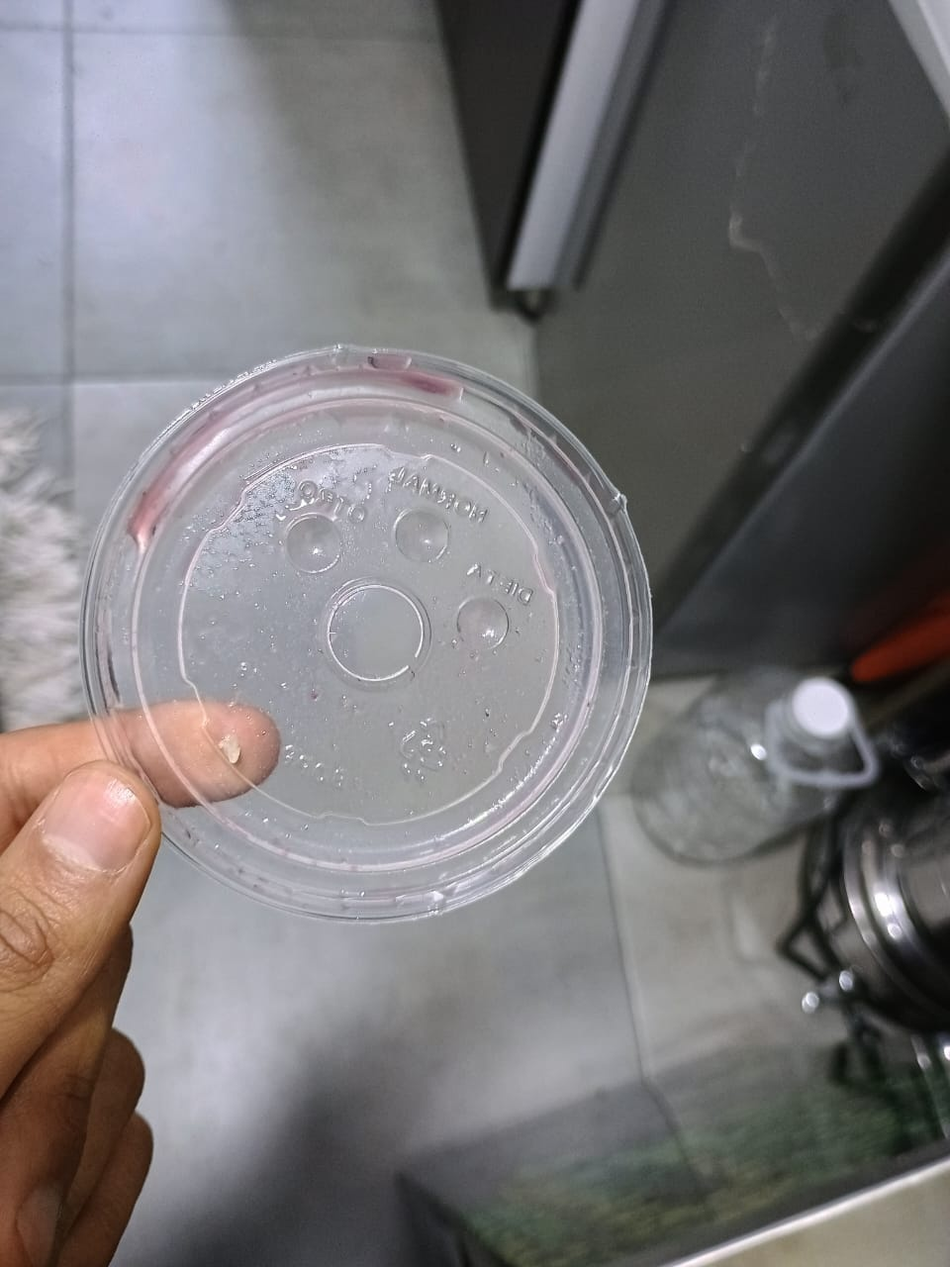Ordinario: (76, 343, 655, 924)
